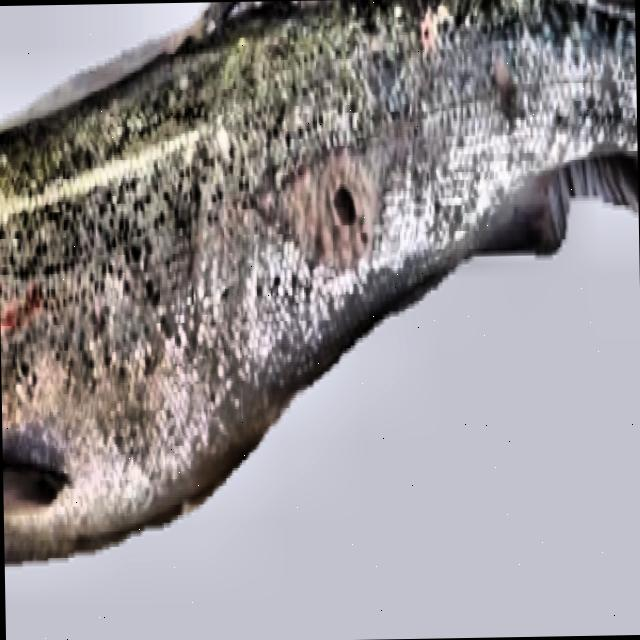mild_red: (0, 0, 636, 561)
